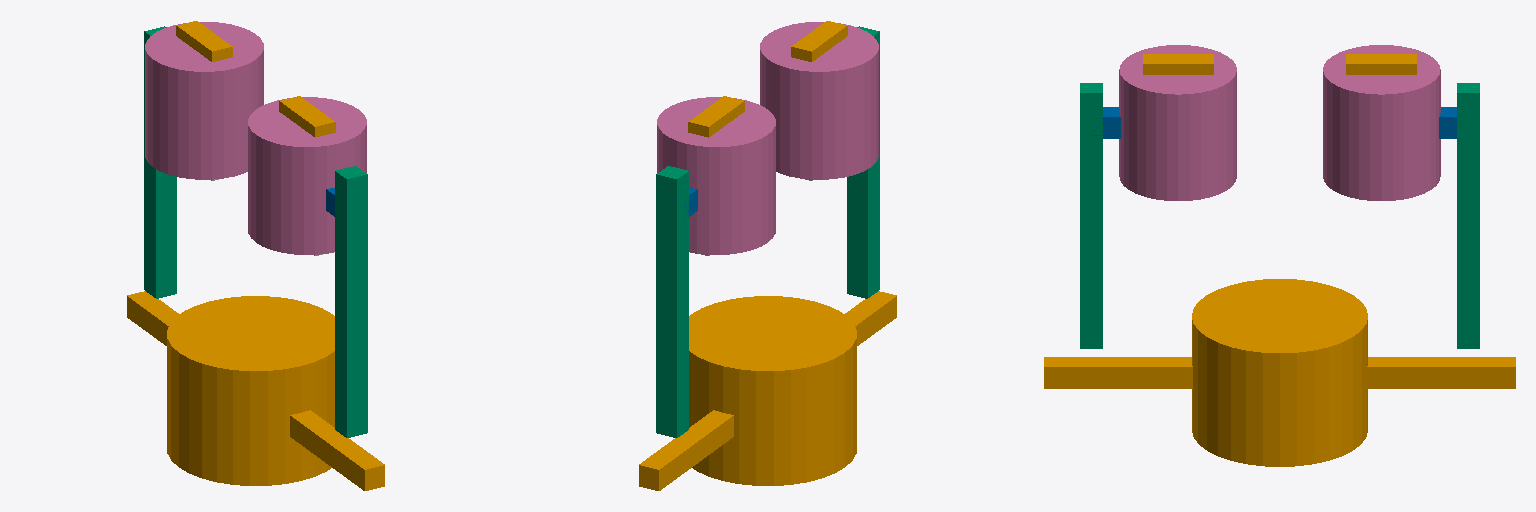
robot.urdf — robot:
<?xml version="0.0"?>
<robot name="">
  <link name="forearm">
    <inertial>
      <origin rpy="0.00000 -0.00000 0.00000" xyz="0.00000 0.00000 0.00000" />
      <mass value="0.25525" />
      <inertia ixx="0.00091" ixy="0" ixz="0" iyy="0.00018" iyz="0" izz="0.00097" />
    </inertial>
    <collision>
      <origin rpy="0.00000 -0.00000 0.00000" xyz="0.00000 0.00000 0.00000" />
      <geometry>
        <cylinder length="0.05325" radius="0.03750" />
      </geometry>
    </collision>
    <visual>
      <origin rpy="0.00000 -0.00000 0.00000" xyz="0.00000 0.00000 0.00000" />
      <geometry>
        <cylinder length="0.05325" radius="0.03750" />
      </geometry>
    </visual>
    <visual>
      <origin rpy="0.00000 -0.00000 0.00000" xyz="0.00000 0.0000 0.00000" />
      <geometry>
        <box size="0.01000 0.20000 0.01000" />
      </geometry>
    </visual>
  </link>
  <link name="link0_2">
    <inertial>
      <origin rpy="0.00000 -0.00000 0.00000" xyz="0.00000 0.00000 0.00000" />
      <mass value="0.00000" />
      <inertia ixx="0.00000" ixy="0" ixz="0" iyy="0.00000" iyz="0" izz="0.00000" />
    </inertial>
  </link>
  <link name="l1">
    <inertial>
      <origin rpy="0.00000 -0.00000 0.00000" xyz="0.00000 0.00000 0.00000" />
      <mass value="0.01200" />
      <inertia ixx="0.00001" ixy="0" ixz="0" iyy="0.00001" iyz="0" izz="0.00000" />
    </inertial>
    <collision>
      <origin rpy="0.00000 -0.00000 0.00000" xyz="0.00000 0.00000 0.00000" />
      <geometry>
        <box size="0.01000 0.01000 0.12000" />
      </geometry>
    </collision>
    <visual>
      <origin rpy="0.00000 -0.00000 0.00000" xyz="0.00000 0.00000 0.00000" />
      <geometry>
        <box size="0.01000 0.01000 0.12000" />
      </geometry>
    </visual>
  </link>
  <link name="link0_4">
    <inertial>
      <origin rpy="0.00000 -0.00000 0.00000" xyz="0.00000 0.00000 0.00000" />
      <mass value="0.00000" />
      <inertia ixx="0.00000" ixy="0" ixz="0" iyy="0.00000" iyz="0" izz="0.00000" />
    </inertial>
  </link>
  <link name="l2">
    <inertial>
      <origin rpy="0.00000 -0.00000 0.00000" xyz="0.00000 0.00000 0.00000" />
      <mass value="0.00368" />
      <inertia ixx="0.00000" ixy="0" ixz="0" iyy="0.00000" iyz="0" izz="0.00000" />
    </inertial>
    <!-- <collision>
      <origin rpy="0.00000 -0.00000 0.00000" xyz="0.00000 0.00000 0.00000" />
      <geometry>
        <box size="0.01000 0.03680 0.01000" />
      </geometry>
    </collision> -->
    <visual>
      <origin rpy="0.00000 -0.00000 0.00000" xyz="0.00000 0.00000 0.00000" />
      <geometry>
        <box size="0.01000 0.03680 0.01000" />
      </geometry>
    </visual>
  </link>
  <link name="link0_6">
    <inertial>
      <origin rpy="0.00000 -0.00000 0.00000" xyz="0.00000 0.00000 0.00000" />
      <mass value="0.00000" />
      <inertia ixx="0.00000" ixy="0" ixz="0" iyy="0.00000" iyz="0" izz="0.00000" />
    </inertial>
  </link>
  <link name="l3">
    <inertial>
      <origin rpy="0.00000 -0.00000 0.00000" xyz="0.00000 0.00000 0.00000" />
      <mass value="0.00000" />
      <inertia ixx="0.00000" ixy="0" ixz="0" iyy="0.00000" iyz="0" izz="0.00000" />
    </inertial>
    <collision>
      <origin rpy="0.00000 -0.00000 0.00000" xyz="0.00000 0.00000 0.00000" />
      <geometry>
        <cylinder radius="0.025" length="0.05" />
      </geometry>
    </collision>
    <visual>
      <origin rpy="0.00000 -0.00000 0.00000" xyz="0.00000 0.00000 0.00000" />
      <geometry>
        <cylinder radius="0.025" length="0.05" />
      </geometry>
    </visual>
  </link>
  <link name="l3_visual_aid_top">
    <inertial>
      <origin rpy="0.00000 -0.00000 0.00000" xyz="0.00000 0.00000 0.00000" />
      <mass value="0.00300" />
      <inertia ixx="0.00000" ixy="0" ixz="0" iyy="0.00000" iyz="0" izz="0.00000" />
    </inertial>
    <!-- <collision>
      <origin rpy="0.00000 -0.00000 0.00000" xyz="0.00000 0.00000 0.00000" />
      <geometry>
        <box size="0.01000 0.03000 0.01000" />
      </geometry>
    </collision> -->
    <visual>
      <origin rpy="0.00000 -0.00000 0.00000" xyz="0.00000 0.00000 0.00000" />
      <geometry>
        <box size="0.01000 0.03000 0.01000" />
      </geometry>
    </visual>
  </link>
  <link name="l3_visual_aid_bottom">
    <inertial>
      <origin rpy="0.00000 -0.00000 0.00000" xyz="0.00000 0.00000 0.00000" />
      <mass value="0.00300" />
      <inertia ixx="0.00000" ixy="0" ixz="0" iyy="0.00000" iyz="0" izz="0.00000" />
    </inertial>
    <!-- <collision>
      <origin rpy="0.00000 -0.00000 0.00000" xyz="0.00000 0.00000 0.00000" />
      <geometry>
        <box size="0.01000 0.03000 0.01000" />
      </geometry>
    </collision> -->
    <visual>
      <origin rpy="0.00000 -0.00000 0.00000" xyz="0.00000 0.00000 0.00000" />
      <geometry>
        <box size="0.01000 0.03000 0.01000" />
      </geometry>
    </visual>
  </link>
  <link name="link0_10">
    <inertial>
      <origin rpy="0.00000 -0.00000 0.00000" xyz="0.00000 0.00000 0.00000" />
      <mass value="0.00000" />
      <inertia ixx="0.00000" ixy="0" ixz="0" iyy="0.00000" iyz="0" izz="0.00000" />
    </inertial>
  </link>
  <link name="r1">
    <inertial>
      <origin rpy="0.00000 -0.00000 0.00000" xyz="0.00000 0.00000 0.00000" />
      <mass value="0.01200" />
      <inertia ixx="0.00001" ixy="0" ixz="0" iyy="0.00001" iyz="0" izz="0.00000" />
    </inertial>
    <collision>
      <origin rpy="0.00000 -0.00000 0.00000" xyz="0.00000 0.00000 0.00000" />
      <geometry>
        <box size="0.01000 0.01000 0.12000" />
      </geometry>
    </collision>
    <visual>
      <origin rpy="0.00000 -0.00000 0.00000" xyz="0.00000 0.00000 0.00000" />
      <geometry>
        <box size="0.01000 0.01000 0.12000" />
      </geometry>
    </visual>
  </link>
  <link name="link0_12">
    <inertial>
      <origin rpy="0.00000 -0.00000 0.00000" xyz="0.00000 0.00000 0.00000" />
      <mass value="0.00000" />
      <inertia ixx="0.00000" ixy="0" ixz="0" iyy="0.00000" iyz="0" izz="0.00000" />
    </inertial>
  </link>
  <link name="r2">
    <inertial>
      <origin rpy="0.00000 -0.00000 0.00000" xyz="0.00000 0.00000 0.00000" />
      <mass value="0.00368" />
      <inertia ixx="0.00000" ixy="0" ixz="0" iyy="0.00000" iyz="0" izz="0.00000" />
    </inertial>
    <!-- <collision>
      <origin rpy="0.00000 -0.00000 0.00000" xyz="0.00000 0.00000 0.00000" />
      <geometry>
        <box size="0.01000 0.03680 0.01000" />
      </geometry>
    </collision> -->
    <visual>
      <origin rpy="0.00000 -0.00000 0.00000" xyz="0.00000 0.00000 0.00000" />
      <geometry>
        <box size="0.01000 0.03680 0.01000" />
      </geometry>
    </visual>
  </link>
  <link name="link0_14">
    <inertial>
      <origin rpy="0.00000 -0.00000 0.00000" xyz="0.00000 0.00000 0.00000" />
      <mass value="0.00000" />
      <inertia ixx="0.00000" ixy="0" ixz="0" iyy="0.00000" iyz="0" izz="0.00000" />
    </inertial>
  </link>
  <link name="r3">
    <inertial>
      <origin rpy="0.00000 -0.00000 0.00000" xyz="0.00000 0.00000 0.00000" />
      <mass value="0.00000" />
      <inertia ixx="0.00000" ixy="0" ixz="0" iyy="0.00000" iyz="0" izz="0.00000" />
    </inertial>
    <collision>
      <origin rpy="0.00000 -0.00000 0.00000" xyz="0.00000 0.00000 0.00000" />
      <geometry>
        <cylinder radius="0.025" length="0.05" />
      </geometry>
    </collision>
    <visual>
      <origin rpy="0.00000 -0.00000 0.00000" xyz="0.00000 0.00000 0.00000" />
      <geometry>
        <cylinder radius="0.025" length="0.05" />
      </geometry>
    </visual>
  </link>
  <link name="r3_visual_aid_top">
    <inertial>
      <origin rpy="0.00000 -0.00000 0.00000" xyz="0.00000 0.00000 0.00000" />
      <mass value="0.00300" />
      <inertia ixx="0.00000" ixy="0" ixz="0" iyy="0.00000" iyz="0" izz="0.00000" />
    </inertial>
    <!-- <collision>
      <origin rpy="0.00000 -0.00000 0.00000" xyz="0.00000 0.00000 0.00000" />
      <geometry>
        <box size="0.01000 0.03000 0.01000" />
      </geometry>
    </collision> -->
    <visual>
      <origin rpy="0.00000 -0.00000 0.00000" xyz="0.00000 0.00000 0.00000" />
      <geometry>
        <box size="0.01000 0.03000 0.01000" />
      </geometry>
    </visual>
  </link>
  <link name="r3_visual_aid_bottom">
    <inertial>
      <origin rpy="0.00000 -0.00000 0.00000" xyz="0.00000 0.00000 0.00000" />
      <mass value="0.00300" />
      <inertia ixx="0.00000" ixy="0" ixz="0" iyy="0.00000" iyz="0" izz="0.00000" />
    </inertial>
    <!-- <collision>
      <origin rpy="0.00000 -0.00000 0.00000" xyz="0.00000 0.00000 0.00000" />
      <geometry>
        <box size="0.01000 0.03000 0.01000" />
      </geometry>
    </collision> -->
    <visual>
      <origin rpy="0.00000 -0.00000 0.00000" xyz="0.00000 0.00000 0.00000" />
      <geometry>
        <box size="0.01000 0.03000 0.01000" />
      </geometry>
    </visual>
  </link>
  <joint name="finger_l" type="prismatic">
    <parent link="forearm" />
    <child link="link0_2" />
    <limit effort="1000.0" lower="-0.50000" upper="0.50000" velocity="0.5" />
    <dynamics damping="1.0" friction="0.0001" />
    <origin rpy="0.00000 -0.00000 0.00000" xyz="0.00000 -0.03000 0.03000" />
    <axis xyz="0.00000 1.00000 0.00000" />
  </joint>
  <joint name="jointfix_4_2" type="fixed">
    <parent link="link0_2" />
    <child link="l1" />
    <dynamics damping="1.0" friction="0.0001" />
    <origin rpy="0.00000 -0.00000 0.00000" xyz="0.00000 -0.05000 0.04352" />
    <axis xyz="0.00000 0.00000 0.00000" />
  </joint>
  <joint name="pitch_l" type="revolute">
    <parent link="l1" />
    <child link="link0_4" />
    <dynamics damping="1.0" friction="0.0001" />
    <origin rpy="0.00000 -0.00000 0.00000" xyz="0.00000 0.00000 0.04352" />
    <axis xyz="0.00000 1.00000 0.00000" />
  </joint>
  <joint name="jointfix_3_4" type="fixed">
    <parent link="link0_4" />
    <child link="l2" />
    <dynamics damping="1.0" friction="0.0001" />
    <origin rpy="0.00000 -0.00000 0.00000" xyz="0.00000 0.01840 0.00000" />
    <axis xyz="0.00000 0.00000 0.00000" />
  </joint>
  <joint name="roll_l" type="revolute">
    <parent link="l2" />
    <child link="link0_6" />
    <dynamics damping="1.0" friction="0.0001" />
    <origin rpy="0.00000 -0.00000 0.00000" xyz="0.00000 0.01840 0.00000" />
    <axis xyz="0.00000 0.00000 1.00000" />
  </joint>
  <joint name="jointfix_2_6" type="fixed">
    <parent link="link0_6" />
    <child link="l3" />
    <dynamics damping="1.0" friction="0.0001" />
    <origin rpy="0.00000 -0.00000 0.00000" xyz="0.00000 0.00000 0.00000" />
    <axis xyz="0.00000 0.00000 0.00000" />
  </joint>
  <joint name="jointfix_0_5" type="fixed">
    <parent link="l3" />
    <child link="l3_visual_aid_top" />
    <dynamics damping="1.0" friction="0.0001" />
    <origin rpy="0.00000 -0.00000 0.00000" xyz="0.00000 0.00000 -0.02500" />
    <axis xyz="0.00000 0.00000 0.00000" />
  </joint>
  <joint name="jointfix_1_5" type="fixed">
    <parent link="l3" />
    <child link="l3_visual_aid_bottom" />
    <dynamics damping="1.0" friction="0.0001" />
    <origin rpy="0.00000 -0.00000 0.00000" xyz="0.00000 0.00000 0.02500" />
    <axis xyz="0.00000 0.00000 0.00000" />
  </joint>
  <joint name="finger_r" type="prismatic">
    <parent link="forearm" />
    <child link="link0_10" />
    <limit effort="1000.0" lower="-0.50000" upper="0.50000" velocity="0.5" />
    <dynamics damping="1.0" friction="0.0001" />
    <origin rpy="0.00000 -0.00000 0.00000" xyz="0.00000 0.03000 0.03000" />
    <axis xyz="0.00000 -1.00000 0.00000" />
  </joint>
  <joint name="jointfix_9_10" type="fixed">
    <parent link="link0_10" />
    <child link="r1" />
    <dynamics damping="1.0" friction="0.0001" />
    <origin rpy="0.00000 -0.00000 0.00000" xyz="0.00000 0.05000 0.04352" />
    <axis xyz="0.00000 0.00000 0.00000" />
  </joint>
  <joint name="pitch_r" type="revolute">
    <parent link="r1" />
    <child link="link0_12" />
    <dynamics damping="1.0" friction="0.0001" />
    <origin rpy="0.00000 -0.00000 0.00000" xyz="0.00000 -0.03680 0.04352" />
    <axis xyz="0.00000 1.00000 0.00000" />
  </joint>
  <joint name="jointfix_8_12" type="fixed">
    <parent link="link0_12" />
    <child link="r2" />
    <dynamics damping="1.0" friction="0.0001" />
    <origin rpy="0.00000 -0.00000 0.00000" xyz="0.00000 0.01840 0.00000" />
    <axis xyz="0.00000 0.00000 0.00000" />
  </joint>
  <joint name="roll_r" type="revolute">
    <parent link="r2" />
    <child link="link0_14" />
    <dynamics damping="1.0" friction="0.0001" />
    <origin rpy="0.00000 -0.00000 0.00000" xyz="0.00000 -0.01840 0.00000" />
    <axis xyz="0.00000 0.00000 1.00000" />
  </joint>
  <joint name="jointfix_7_14" type="fixed">
    <parent link="link0_14" />
    <child link="r3" />
    <dynamics damping="1.0" friction="0.0001" />
    <origin rpy="0.00000 -0.00000 0.00000" xyz="0.00000 0.00000 0.00000" />
    <axis xyz="0.00000 0.00000 0.00000" />
  </joint>
  <joint name="jointfix_5_13" type="fixed">
    <parent link="r3" />
    <child link="r3_visual_aid_top" />
    <dynamics damping="1.0" friction="0.0001" />
    <origin rpy="0.00000 -0.00000 0.00000" xyz="0.00000 0.00000 -0.02500" />
    <axis xyz="0.00000 0.00000 0.00000" />
  </joint>
  <joint name="jointfix_6_13" type="fixed">
    <parent link="r3" />
    <child link="r3_visual_aid_bottom" />
    <dynamics damping="1.0" friction="0.0001" />
    <origin rpy="0.00000 -0.00000 0.00000" xyz="0.00000 0.00000 0.02500" />
    <axis xyz="0.00000 0.00000 0.00000" />
  </joint>
</robot>

--- What the picture shows (computed from the rendered views, not written in the file) ---
The picture shows the robot from 3 angles, left to right: view 1: azimuth 30°, elevation 25°; view 2: azimuth 150°, elevation 25°; view 3: azimuth 270°, elevation 25°; orthographic projection.
Robot: robot — 17 links, 16 joints (4 revolute, 2 prismatic, 10 fixed); root link forearm; default pose: all joints at 0.
Links seen in each view (by area): view 1: forearm, r3, l3, l1, r1, l3_visual_aid_bottom, r3_visual_aid_bottom; view 2: forearm, l3, r3, r1, l1, l3_visual_aid_bottom, r3_visual_aid_bottom; view 3: forearm, l3, r3, r1, l1, l3_visual_aid_bottom, r3_visual_aid_bottom, l2, r2.
Boxes of the visible links, <box> form: forearm: <box>127,291,384,490</box>; r3: <box>145,22,263,179</box>; l3: <box>248,97,366,254</box>; l1: <box>335,166,367,437</box>; r1: <box>144,26,176,298</box>; l3_visual_aid_bottom: <box>279,96,335,137</box>; r3_visual_aid_bottom: <box>176,21,232,61</box>; forearm: <box>639,291,896,490</box>; l3: <box>760,22,878,179</box>; r3: <box>657,97,775,254</box>; r1: <box>656,166,688,437</box>; l1: <box>847,26,879,298</box>; l3_visual_aid_bottom: <box>791,21,847,61</box>; r3_visual_aid_bottom: <box>688,96,744,137</box>; forearm: <box>1044,279,1515,466</box>; l3: <box>1119,45,1236,200</box>; r3: <box>1323,45,1440,200</box>; r1: <box>1457,83,1479,348</box>; l1: <box>1080,83,1102,348</box>; l3_visual_aid_bottom: <box>1143,54,1213,74</box>; r3_visual_aid_bottom: <box>1346,54,1416,74</box>; l2: <box>1092,107,1120,138</box>; r2: <box>1439,107,1465,138</box>.
Bounding box of the posed robot: 0.075 × 0.2 × 0.1737 m (x, y, z).
Geometry: primitives only (box / cylinder / sphere), no mesh files.
